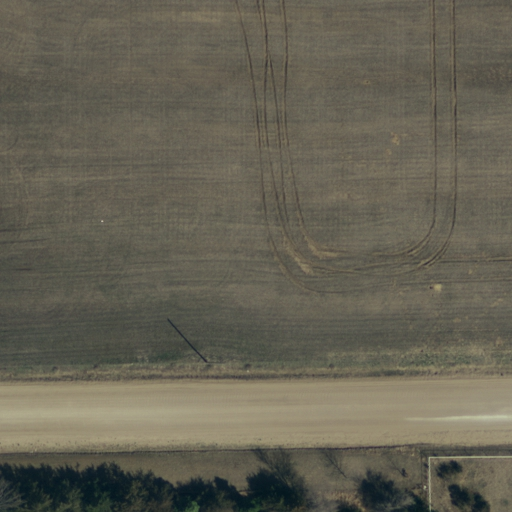DT: (197, 351, 218, 375)
